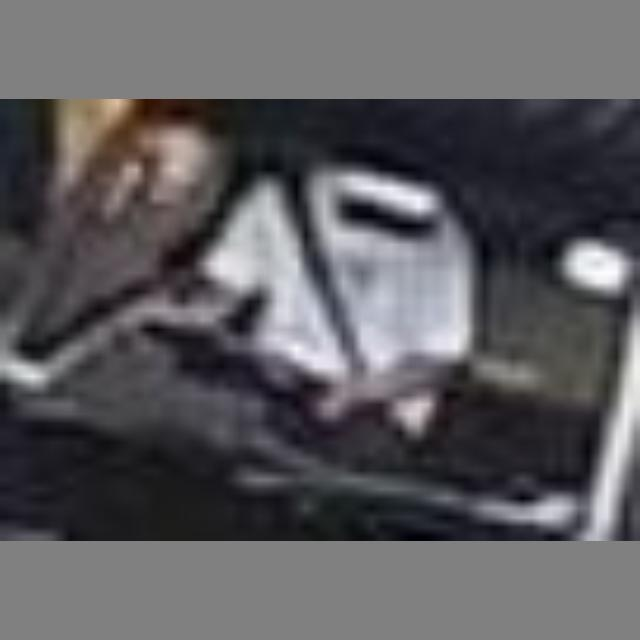pakai: (198, 165, 480, 428)
